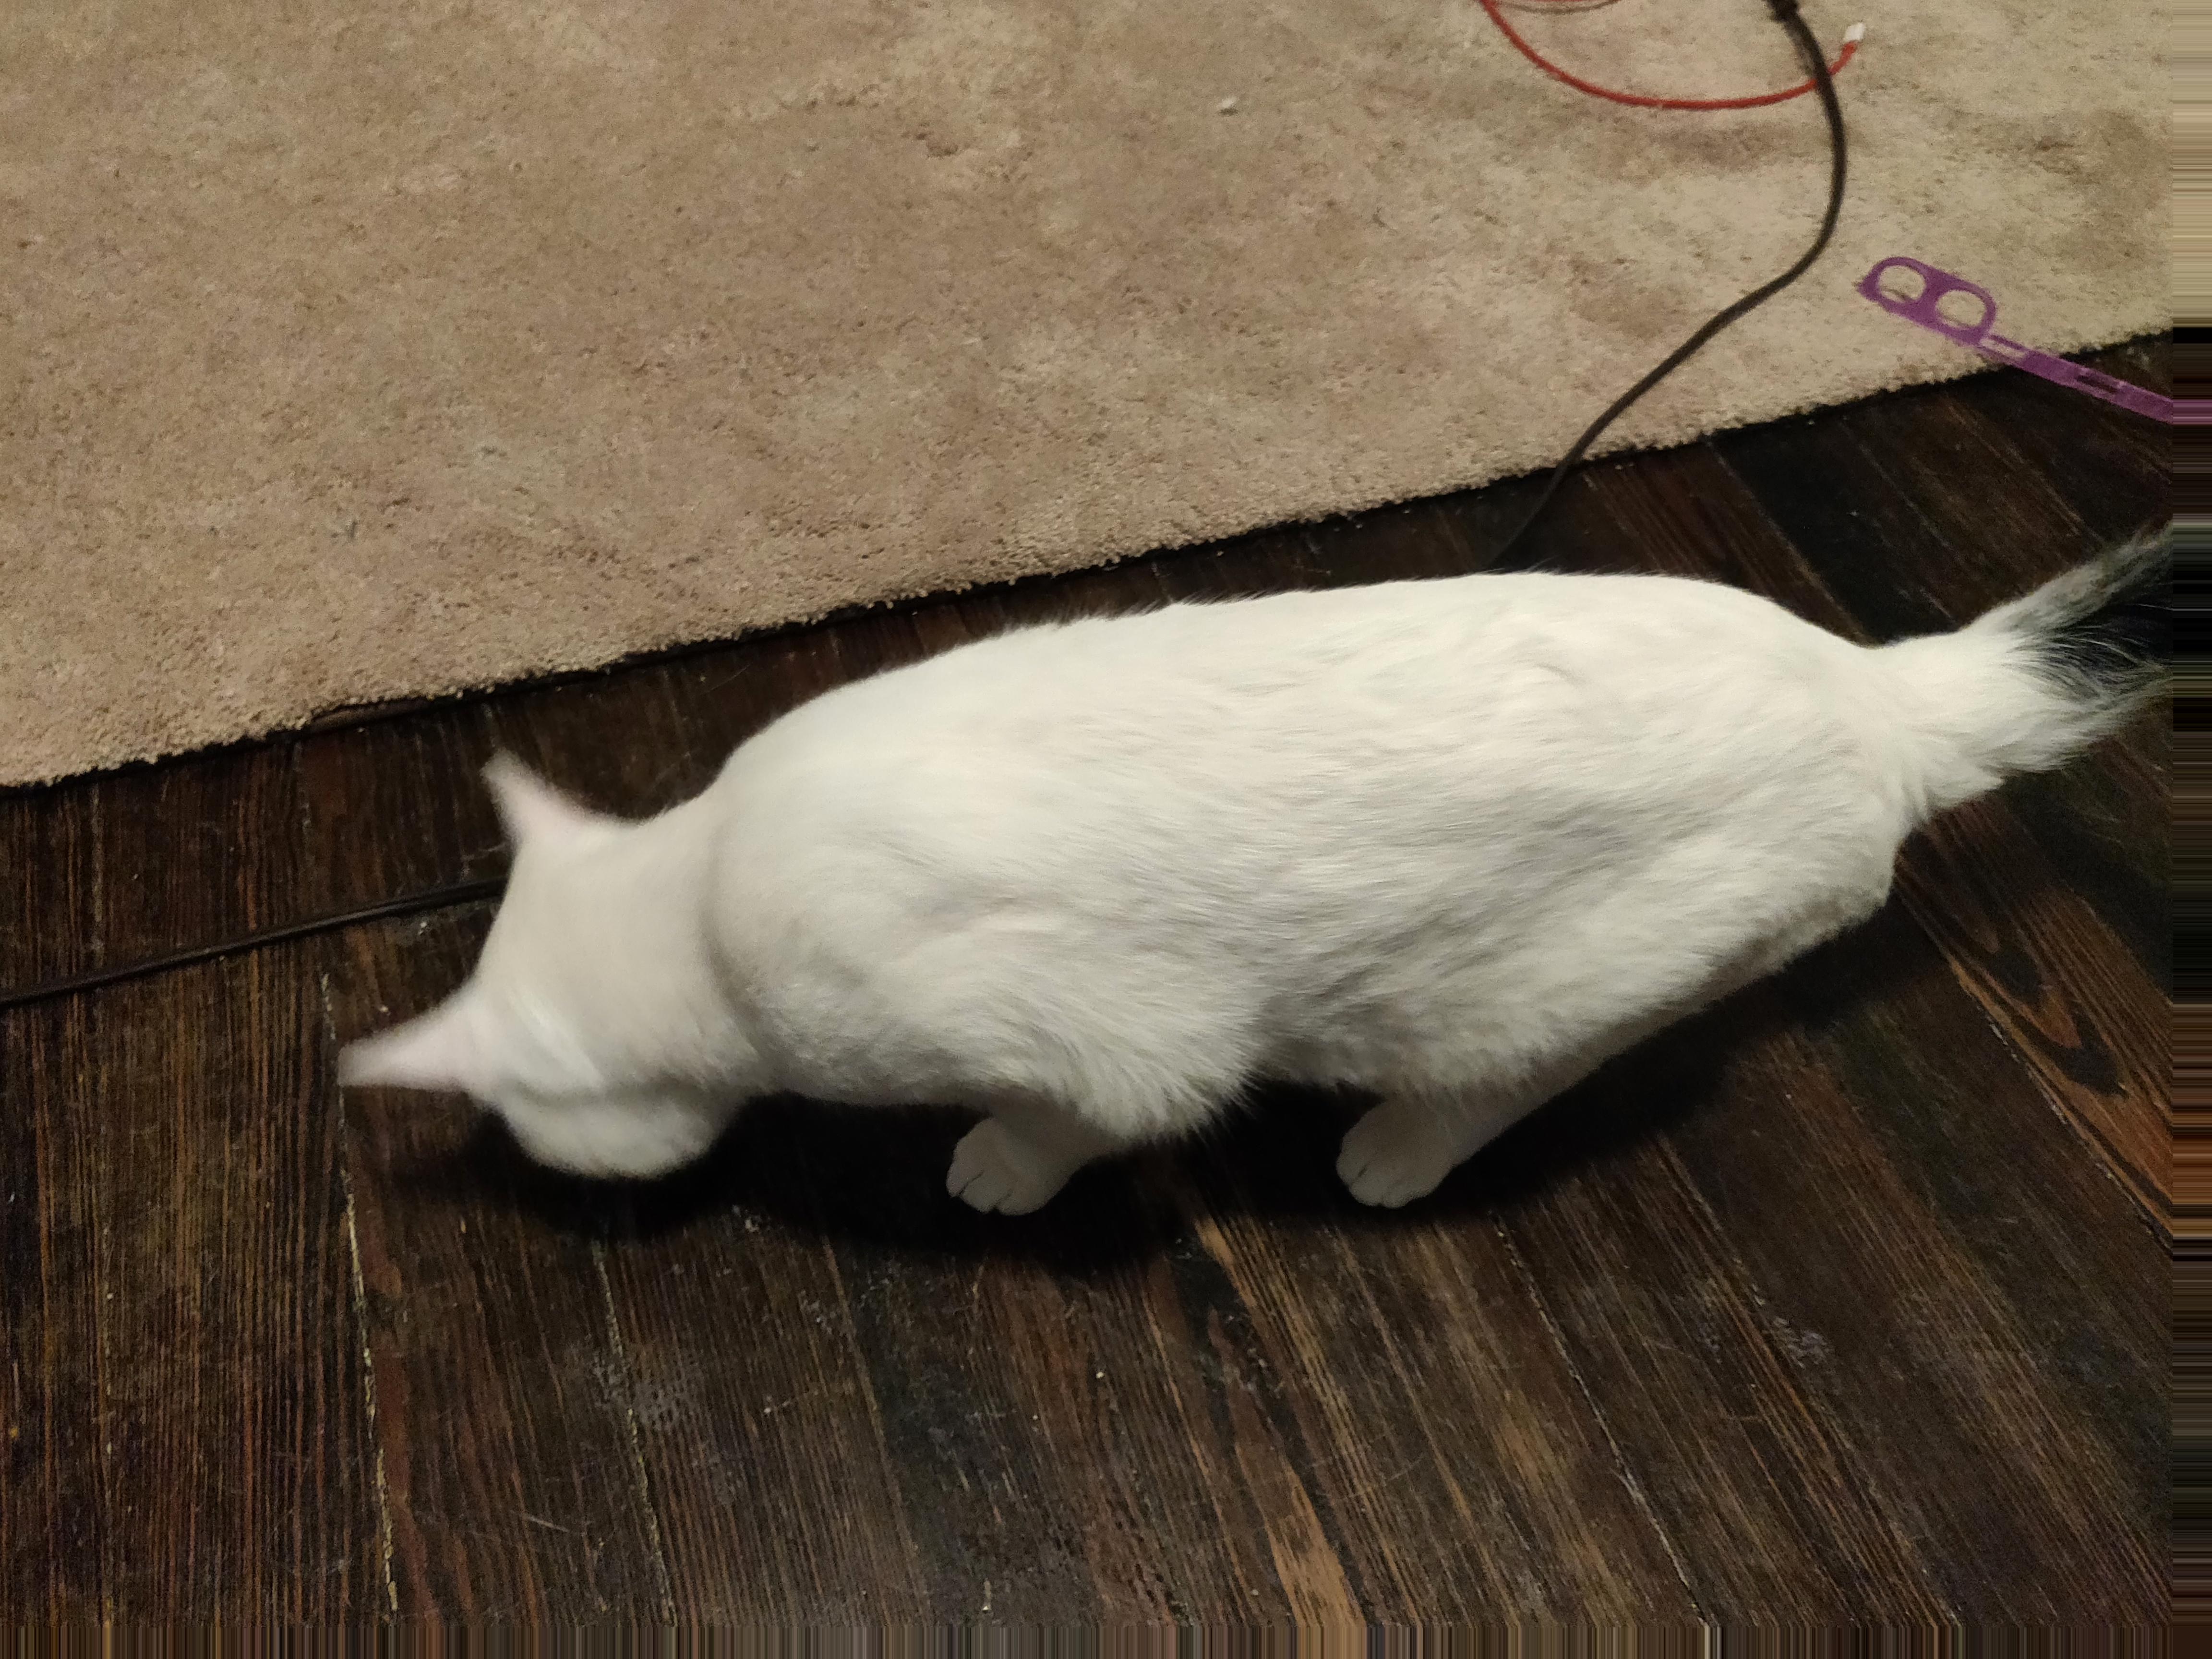cat: (336, 500, 2190, 1233)
